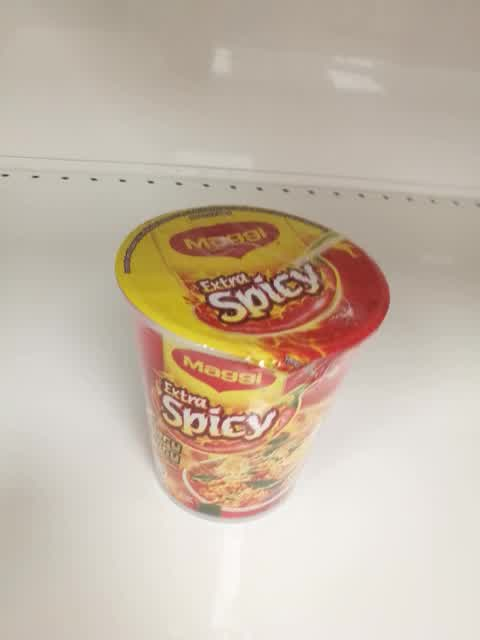maggi: (112, 204, 391, 525)
